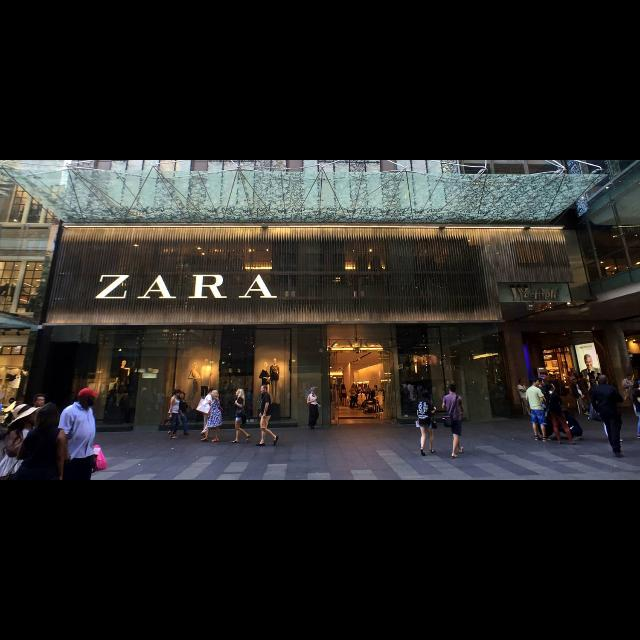head: (16, 407, 38, 427), (41, 405, 61, 427), (78, 388, 98, 407), (33, 394, 45, 406), (598, 375, 608, 387), (448, 384, 458, 394), (546, 383, 556, 393), (422, 392, 431, 401), (532, 378, 540, 388), (236, 389, 244, 397), (260, 386, 268, 394), (176, 388, 182, 398), (179, 392, 185, 400), (209, 388, 215, 396), (212, 390, 218, 398), (626, 374, 632, 381), (310, 388, 316, 394), (563, 411, 569, 417), (520, 380, 524, 384), (342, 386, 346, 388), (354, 384, 356, 388)
person: (588, 373, 626, 459), (542, 382, 578, 446), (440, 384, 466, 461), (414, 389, 438, 457), (524, 376, 548, 444), (256, 384, 280, 448), (228, 388, 252, 444), (200, 389, 224, 443), (195, 388, 218, 440), (168, 390, 192, 438), (556, 409, 584, 443), (167, 388, 183, 440), (516, 378, 536, 418), (306, 385, 322, 431), (348, 382, 358, 412), (339, 384, 348, 408)
